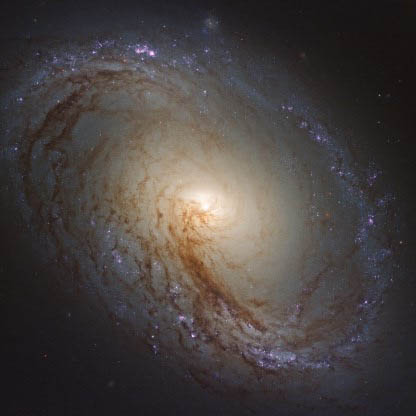Messier 96: (9, 11, 399, 403)
